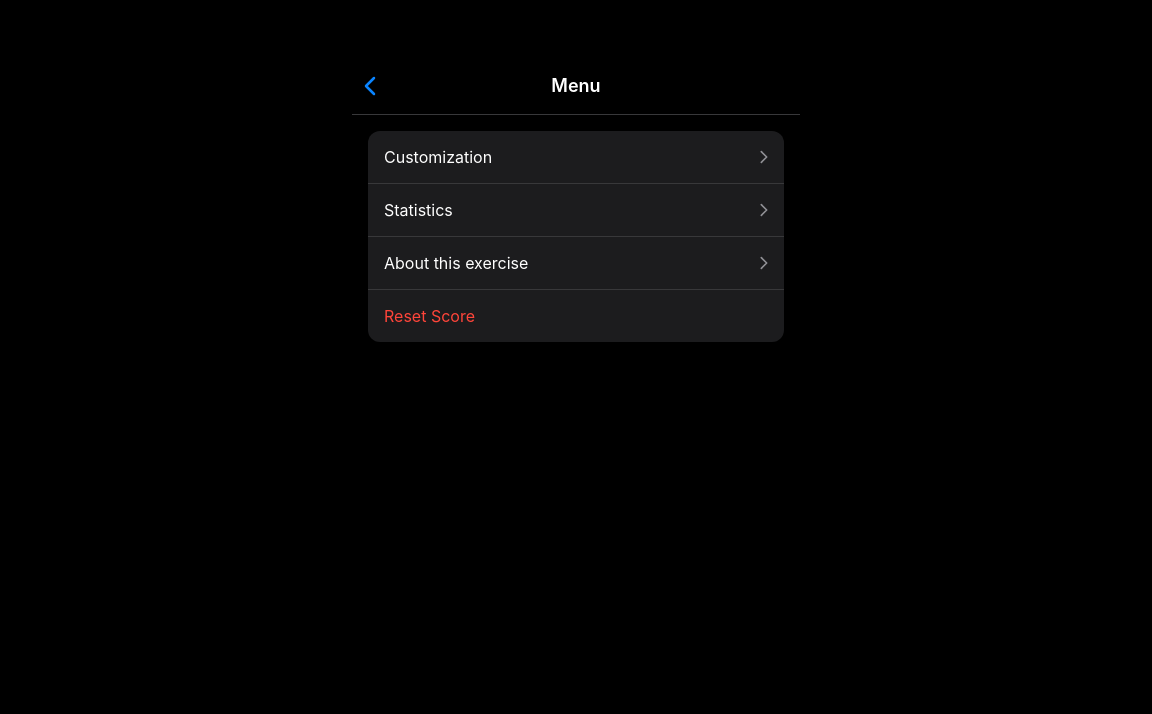
choosing scales › shows the degrees of each scale
The width and height of the screenshot is (1152, 714).
Click the button "Customization".
click(438, 157)  # box x1=368 y1=131 x2=784 y2=183
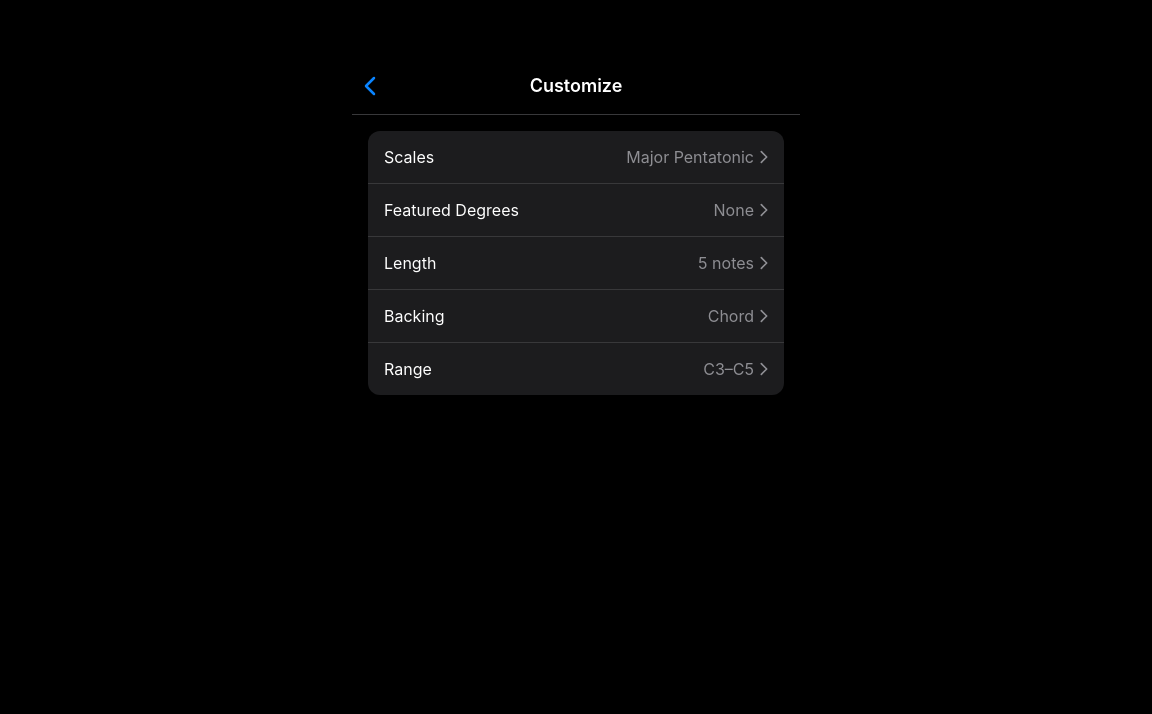
Click the button "Scales Major Pentatonic".
click(409, 157)  # box x1=368 y1=131 x2=784 y2=183
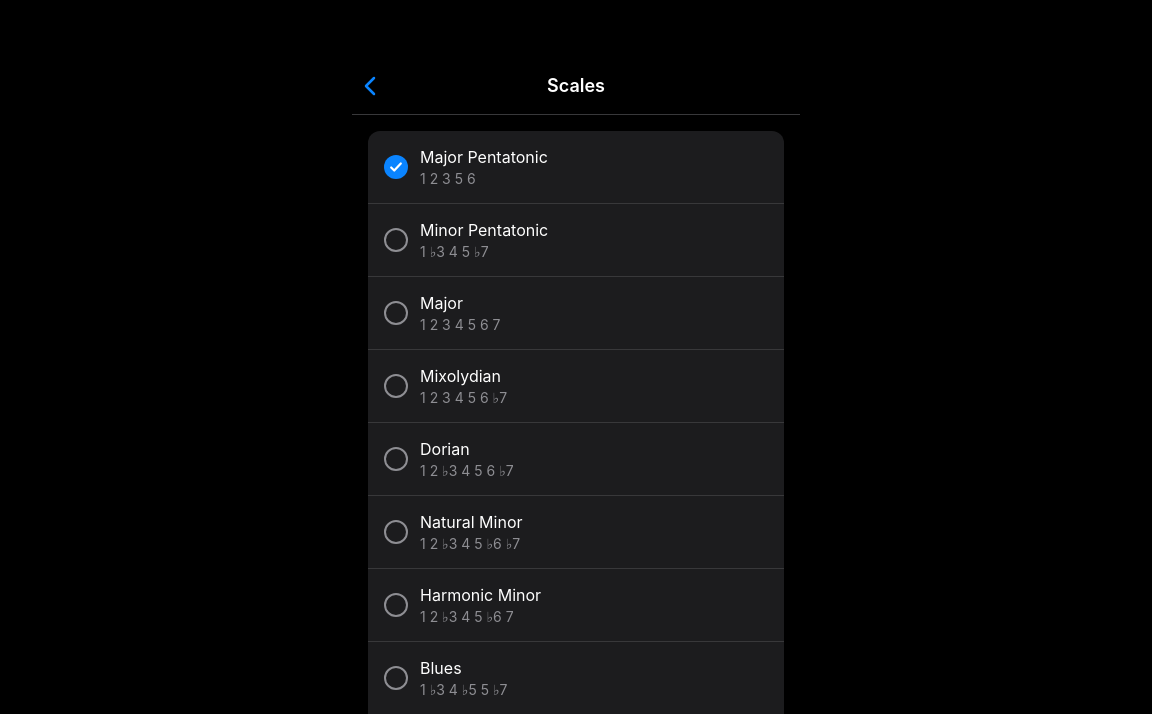
Check: the checkbox labelled "Major 1 2 3 4 5 6 7" is shown, box x1=368 y1=276 x2=784 y2=349
